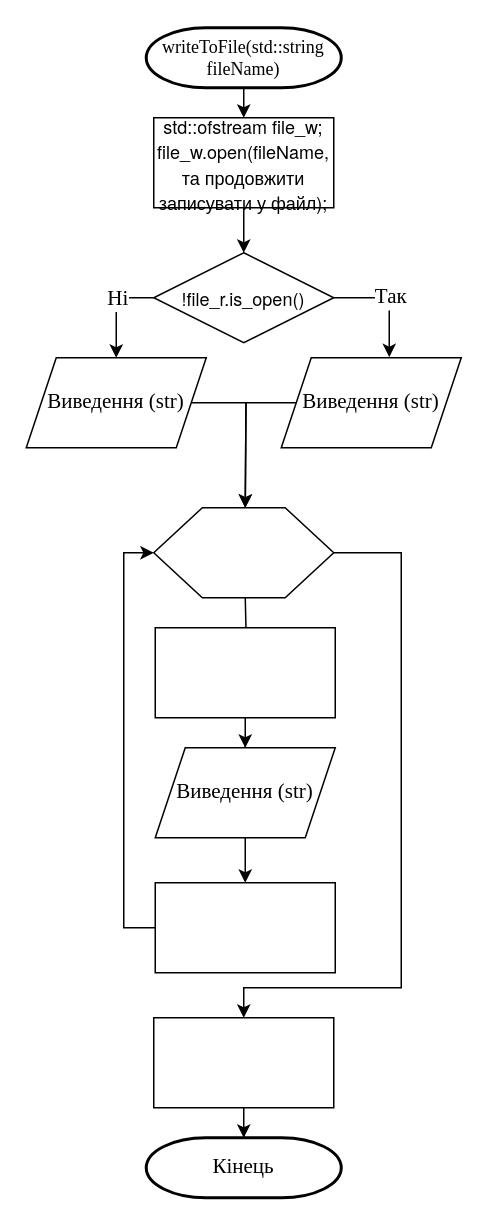
The diagram is 488 pixels wide and 1224 high, and some of its shapes have lost their labels. Each missing label, with the box of its shape:
ab.printOne(file_w): (154, 881, 335, 973)
Basic ab(GetBird(i)): (154, 626, 335, 718)
file_r.close(): (152, 1016, 334, 1108)
i := 0..count, i++: (152, 506, 334, 598)
